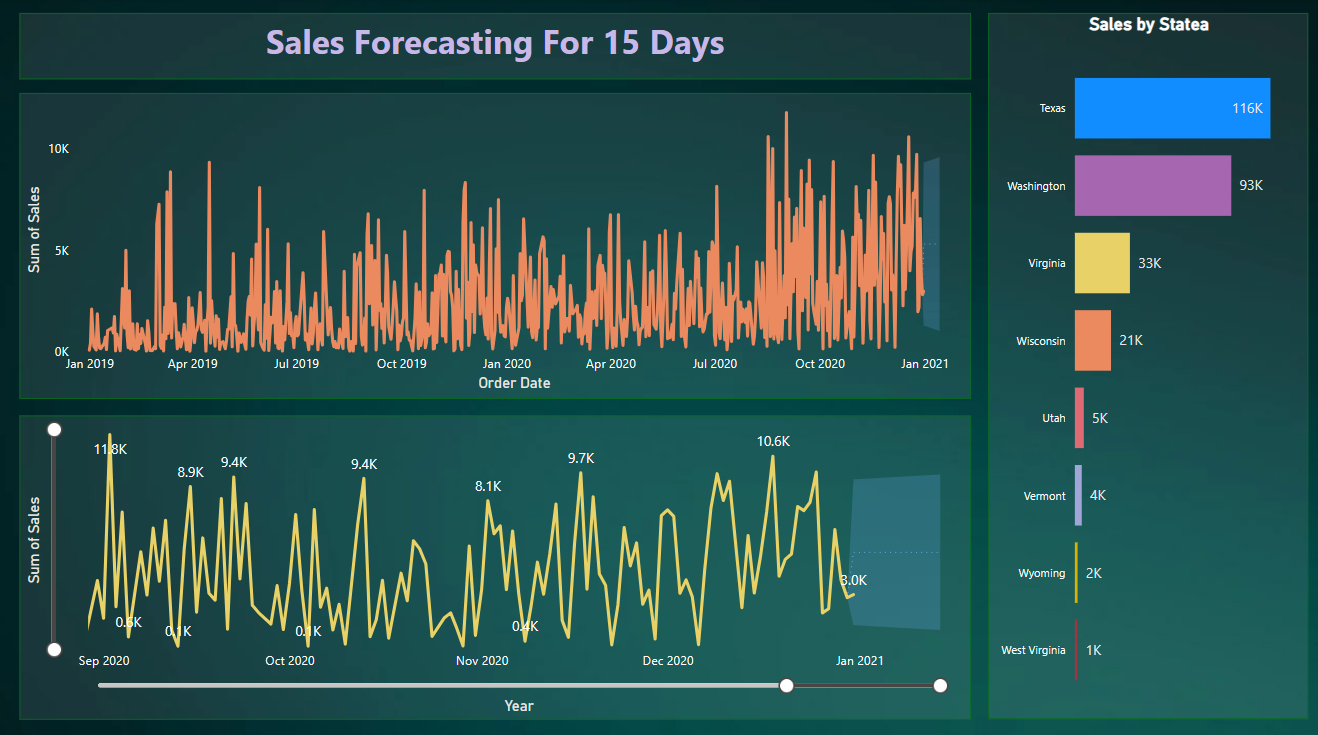

What the dashboard file says about the page in this screenshot:
{"tool":"powerbi","page":{"name":"Forecast","canvas":[1280,720],"ordinal":1},"visuals":[{"type":"lineChart","fields":{"Y":["Sum(SuperStore_Sales_Dataset.Sales)"],"Category":["SuperStore_Sales_Dataset.Order Date"]},"box":[21.3,92.1,918.4,294.8],"z":0},{"type":"lineChart","fields":{"Y":["Sum(SuperStore_Sales_Dataset.Sales)"],"Category":["SuperStore_Sales_Dataset.Order Date.Variation.Date Hierarchy.Year","SuperStore_Sales_Dataset.Order Date.Variation.Date Hierarchy.Quarter","SuperStore_Sales_Dataset.Order Date.Variation.Date Hierarchy.Month","SuperStore_Sales_Dataset.Order Date.Variation.Date Hierarchy.Day"]},"box":[21.3,402.5,918.4,293.4],"z":1000},{"type":"clusteredBarChart","title":"Sales by Statea","fields":{"Y":["Sum(SuperStore_Sales_Dataset.Sales)"],"Category":["SuperStore_Sales_Dataset.State"]},"box":[956.7,14.2,309,681.7],"z":2000},{"type":"textbox","box":[21.3,14.2,918.4,63.8],"z":3000}]}

Visuals, with their boxes in screenshot pixels (x1, y1, x2, y2), scaled from the page's 1280x720 canvas onto the 1318x735 screenshot:
lineChart - Sum(SuperStore_Sales_Dataset.Sales) x SuperStore_Sales_Dataset.Order Date: rect(22, 94, 968, 395)
lineChart - Sum(SuperStore_Sales_Dataset.Sales) x SuperStore_Sales_Dataset.Order Date.Variation.Date Hierarchy.Year: rect(22, 411, 968, 710)
"Sales by Statea" clusteredBarChart: rect(985, 14, 1303, 710)
textbox: rect(22, 14, 968, 80)
